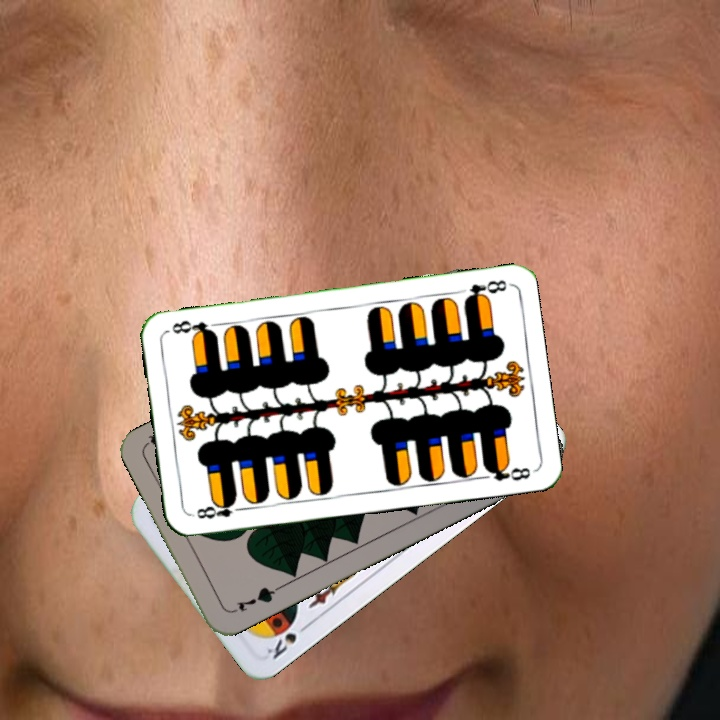E8: (452, 276, 510, 305), (189, 496, 248, 522)
G7: (227, 582, 282, 616)
SK: (262, 619, 313, 662)
